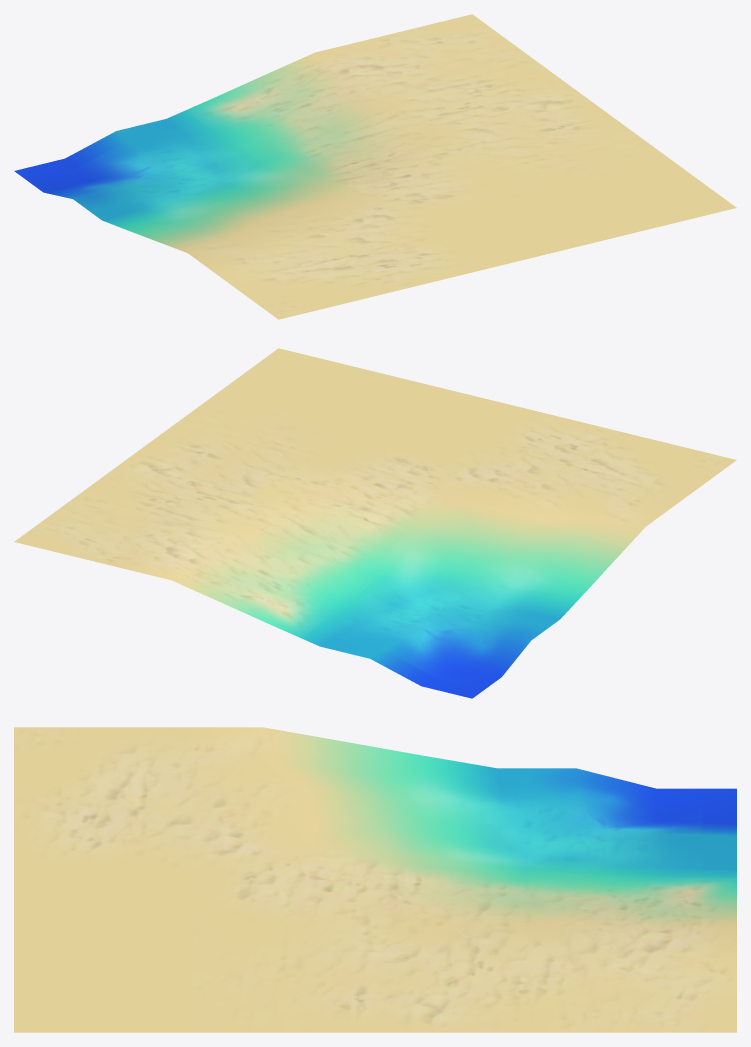
File: land_beach00_f.fbx
3 renders of one model, top to bottom at view 1: azimuth 30°, elevation 25°; view 2: azimuth 150°, elevation 25°; view 3: azimuth 270°, elevation 25°, orthographic. The views are drawn at different scales.
Parts seen in each view (by area): view 1: land_beach00_f; view 2: land_beach00_f; view 3: land_beach00_f.
Boxes of the visible parts, x1,y1,x2,y2 form: land_beach00_f: (14, 14, 736, 319); land_beach00_f: (14, 348, 736, 698); land_beach00_f: (14, 727, 736, 1032).
Size of the model in its own units: 48 by 4.5 by 48.
